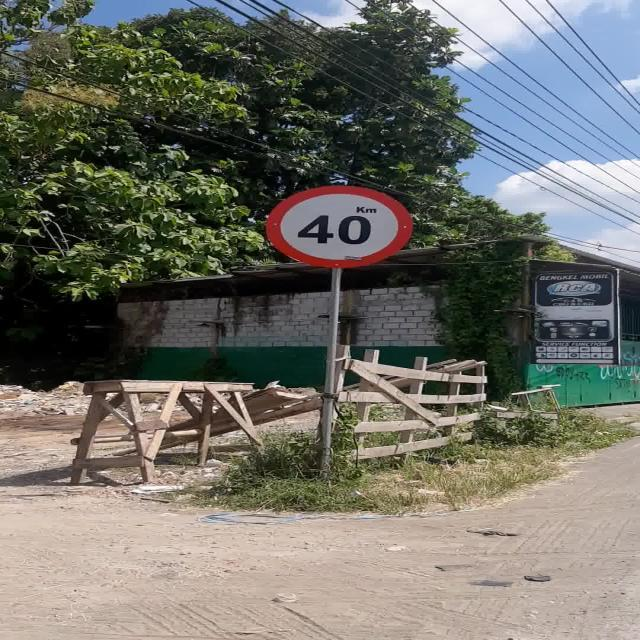Kecepatan Maks. 40 km: (264, 185, 414, 268)
